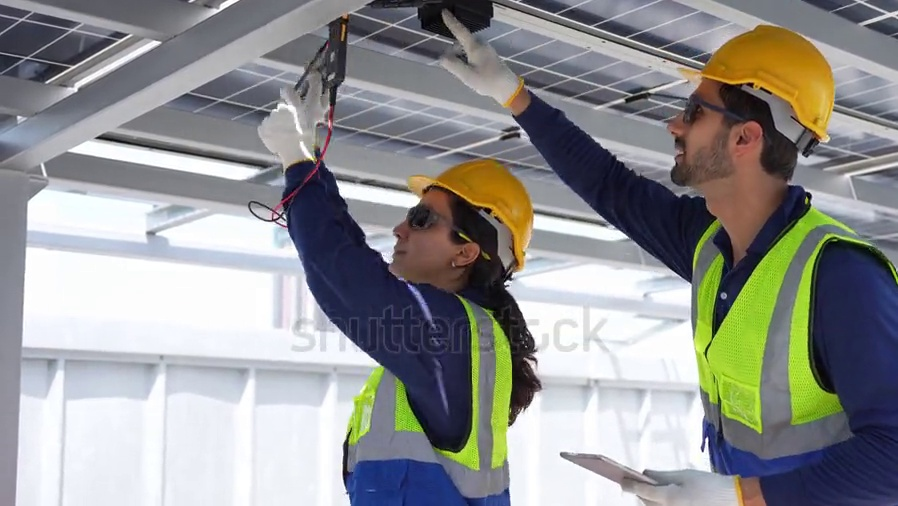helmet: (679, 22, 835, 142), (404, 158, 534, 272)
person: (436, 6, 898, 506), (257, 40, 541, 506)
